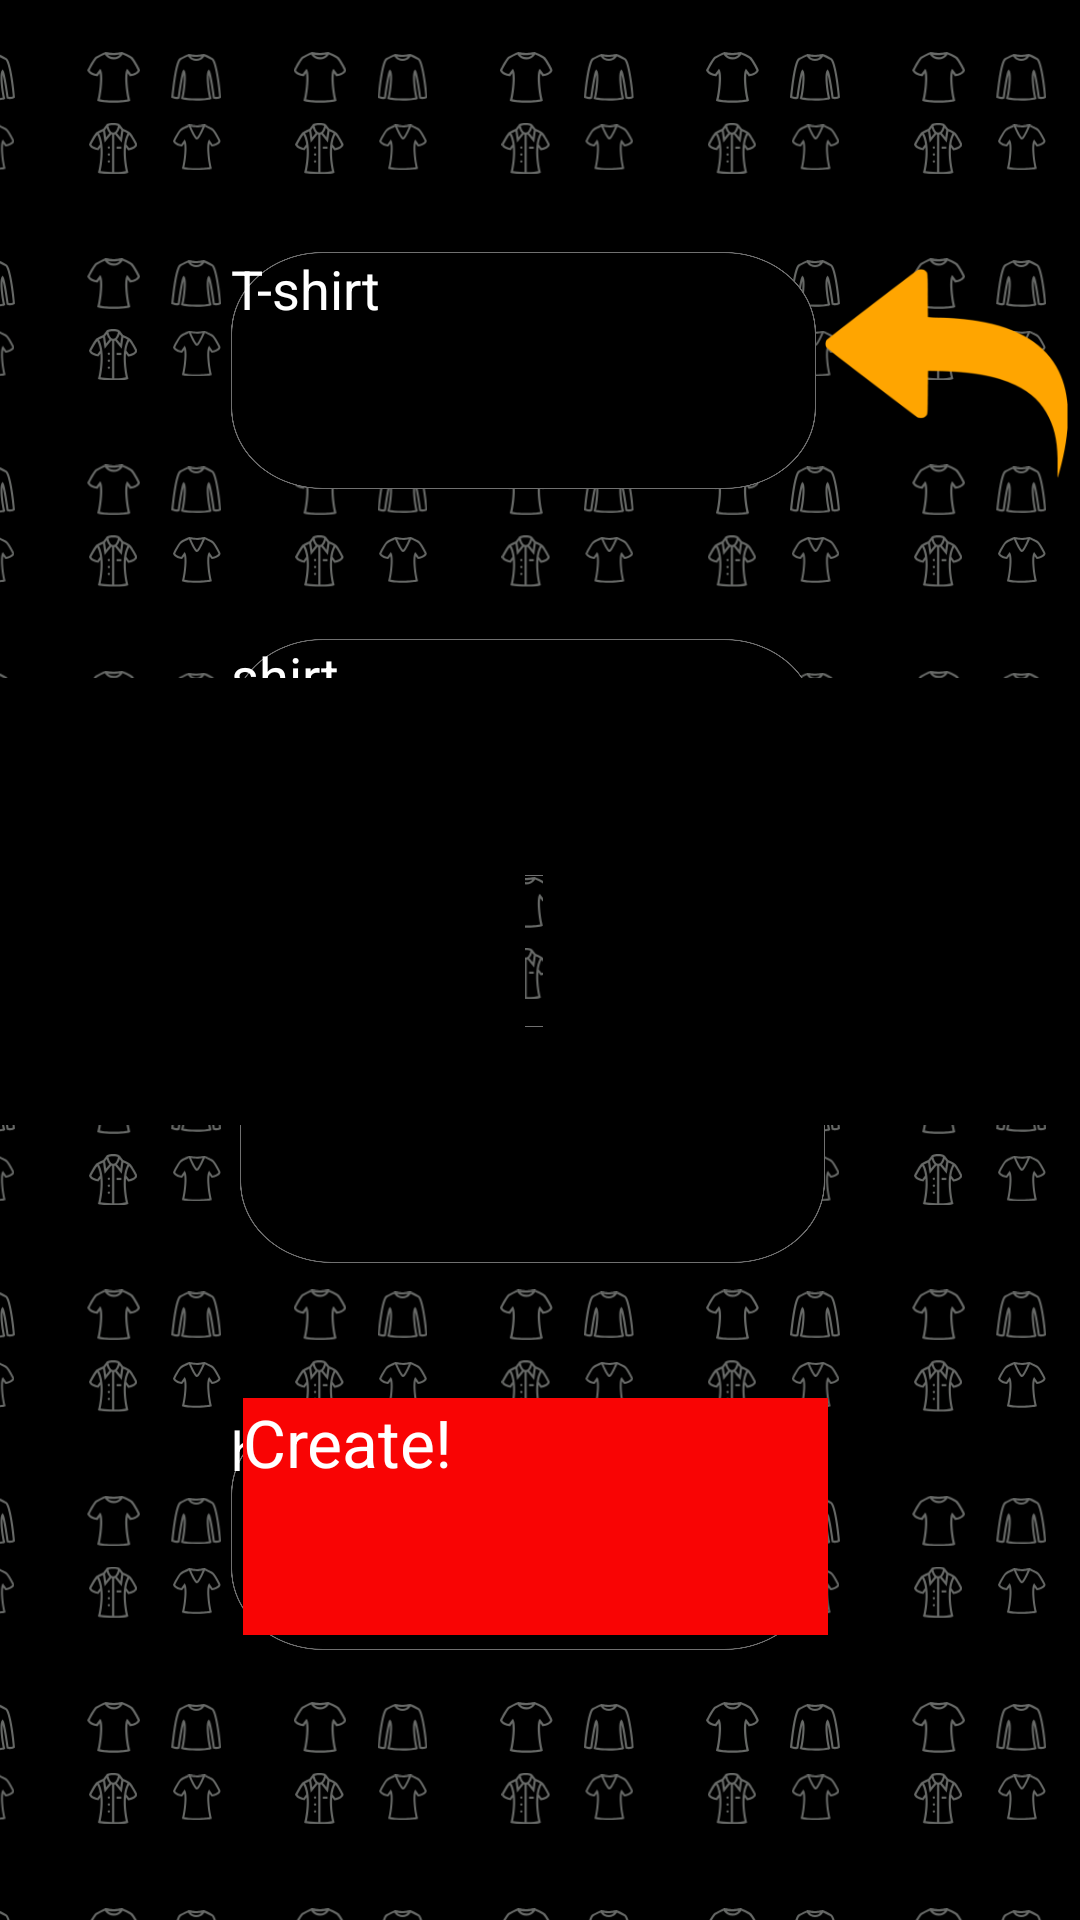

Icon bounding boxes for this 1080 x 1920 phone screenshot, format bbox=[x1, y1, x2, y2]:
undo: bbox=[825, 258, 1068, 492]
